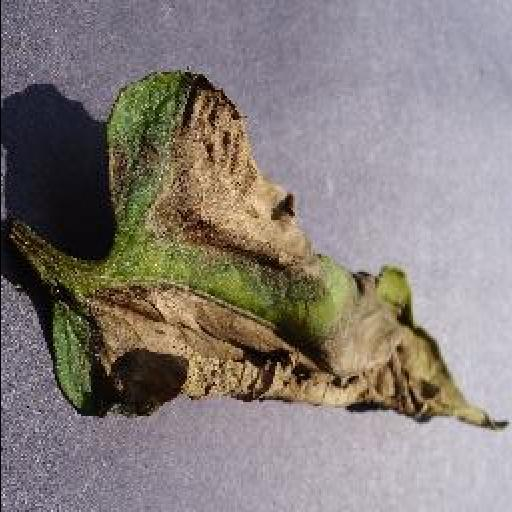disease_tomato: (48, 72, 512, 434)
